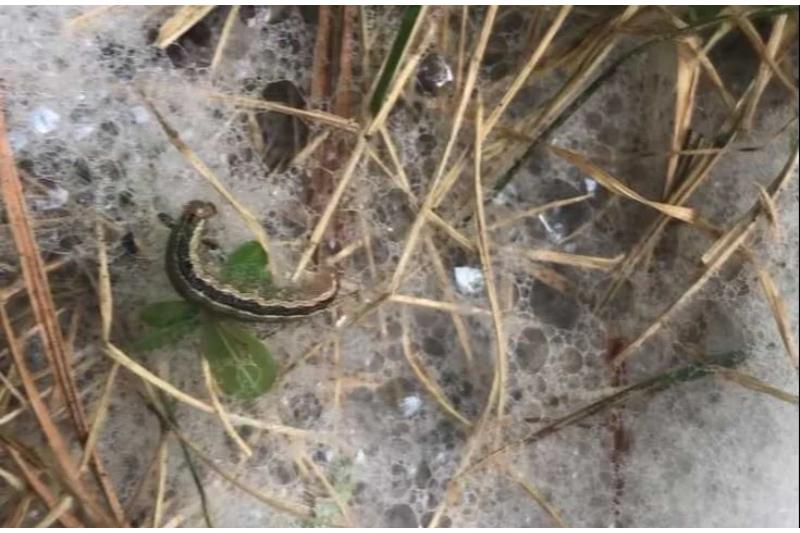fall-armyworm: (164, 203, 328, 326)
